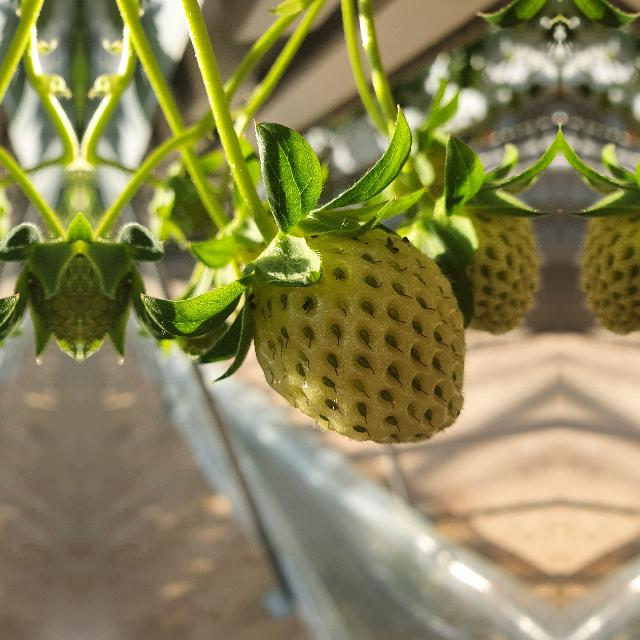Health_25: (252, 228, 464, 444)
